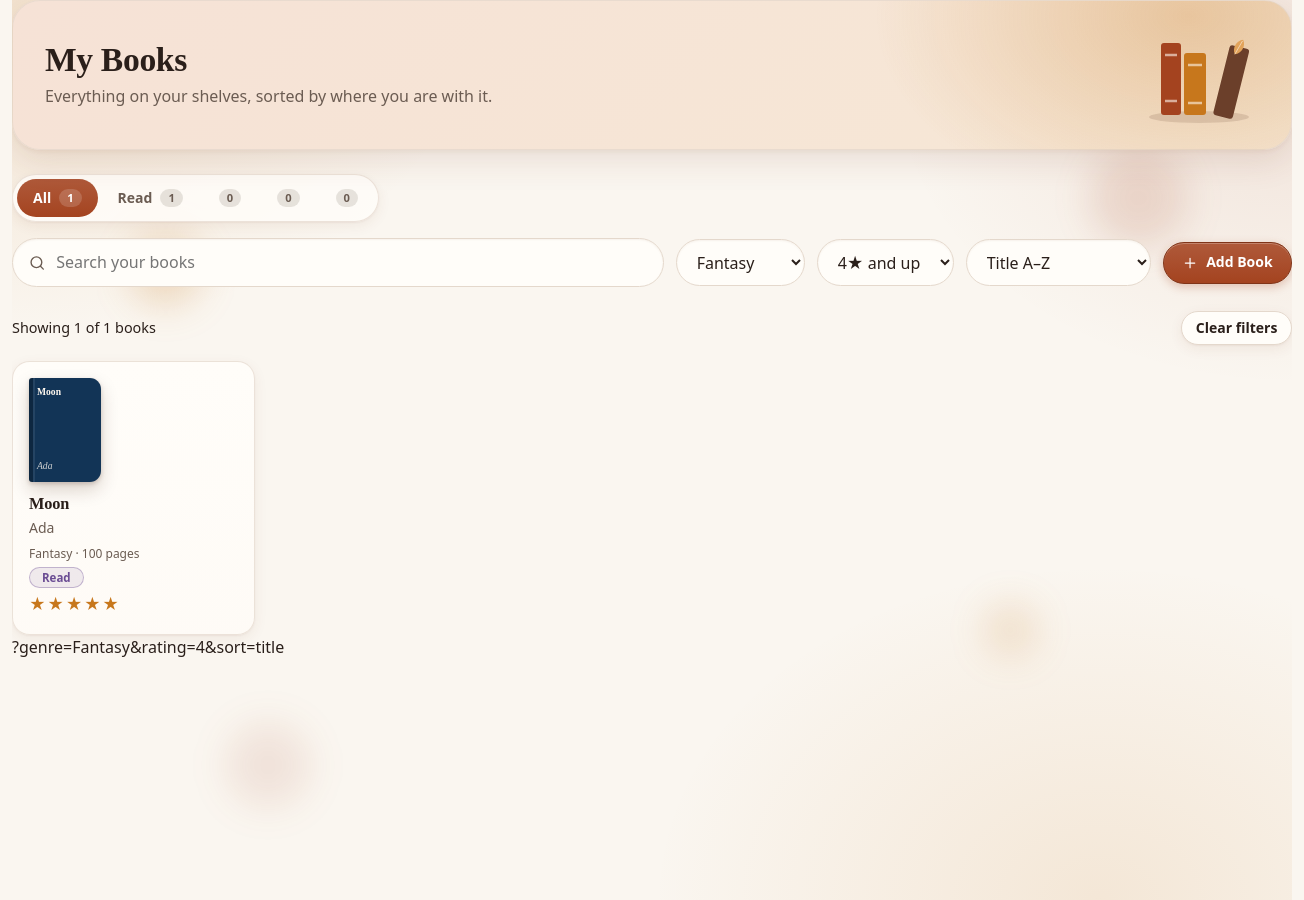
Test case: keeps genre, rating and sort in the URL, and Clear filters keeps the sort
Expected: the text "Showing 1 of 1 books" is shown, [12,316,156,339]
Type "zzz" into the search field at (338, 263), box [12,238,664,287]
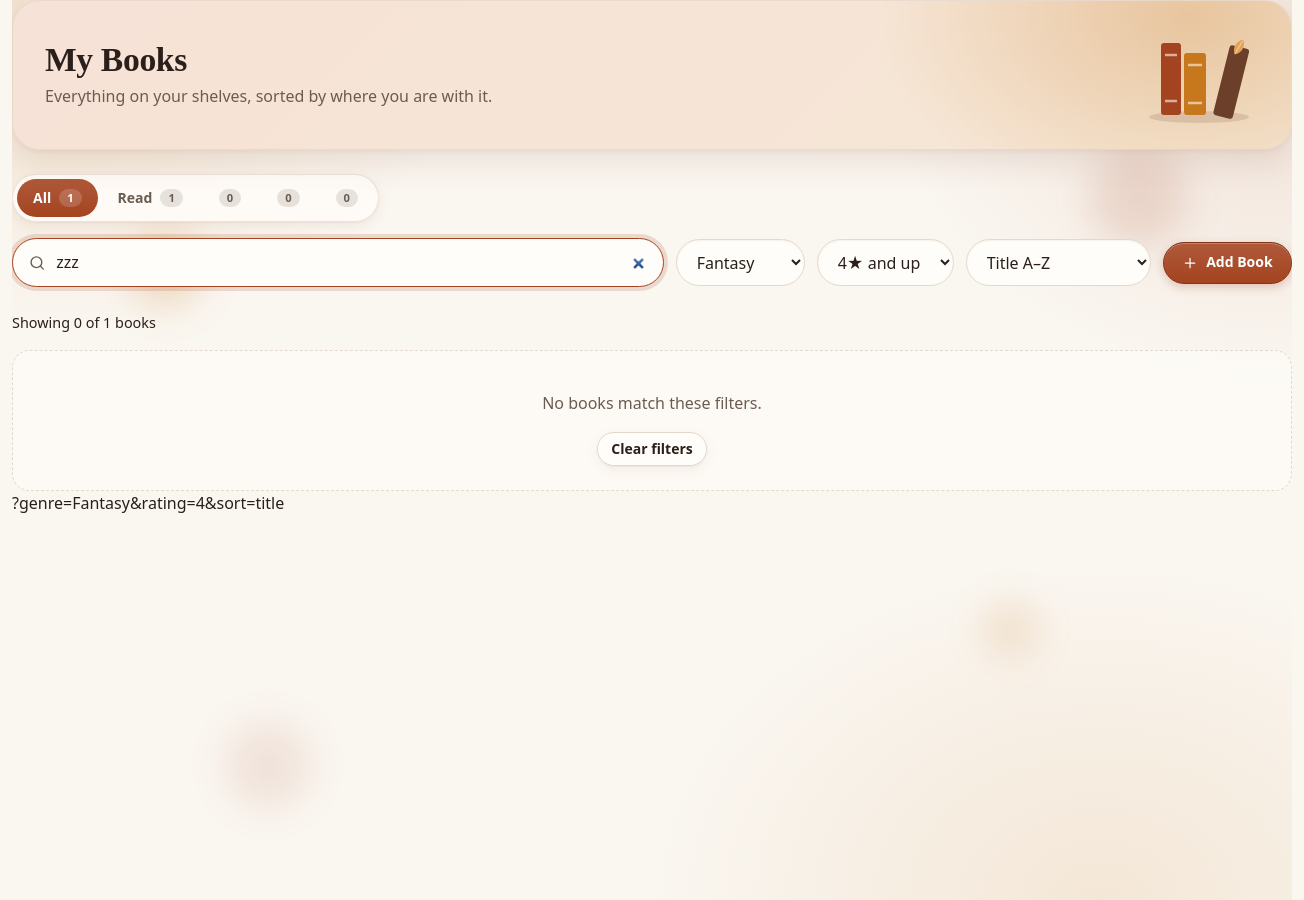
Expected: the text "No books match these filters." is shown, [542,392,762,414]
Click the button "Clear filters" at (652, 449), box [597,432,707,466]
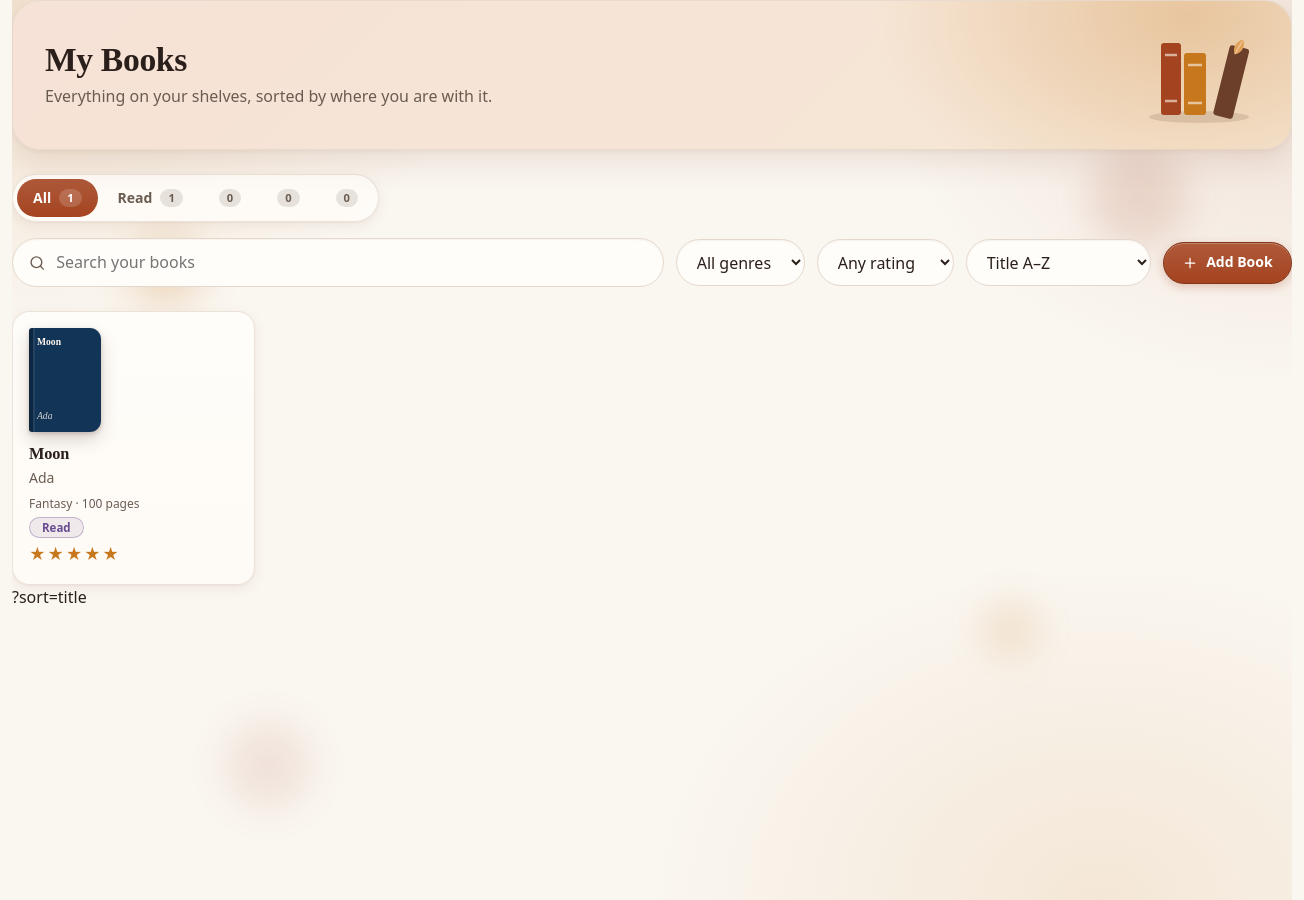
Expected: the text with test id "location" reads "?sort=title", [12,586,87,608]
Expected: the search field is empty, [12,238,664,287]
